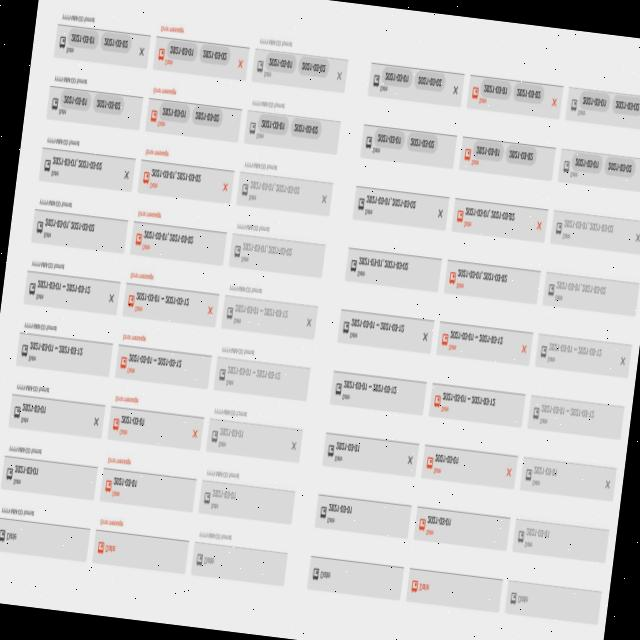VInlineDatepicker: (96, 454, 198, 514), (6, 378, 106, 439), (13, 318, 114, 378), (112, 330, 213, 390), (104, 392, 206, 451), (90, 514, 190, 574), (211, 342, 311, 402), (219, 280, 319, 340), (188, 528, 289, 587), (242, 94, 341, 154), (142, 84, 244, 142), (120, 269, 220, 328), (226, 218, 326, 277), (136, 144, 236, 203), (196, 466, 297, 524), (0, 442, 99, 501), (204, 405, 303, 464), (29, 196, 129, 254), (128, 208, 228, 266), (234, 157, 334, 215), (36, 134, 136, 192), (250, 34, 350, 92), (52, 11, 151, 69), (44, 73, 144, 130), (21, 259, 121, 315), (150, 24, 250, 80), (0, 503, 91, 562), (510, 515, 609, 564), (518, 453, 616, 502), (418, 442, 518, 490), (524, 391, 624, 439), (532, 330, 632, 378), (441, 256, 541, 304), (540, 268, 640, 316), (350, 182, 450, 230), (464, 72, 564, 120), (412, 502, 511, 550), (502, 577, 602, 624), (320, 430, 420, 477), (426, 380, 526, 427), (334, 307, 434, 354), (403, 565, 502, 612), (328, 368, 426, 415), (450, 195, 548, 242), (304, 553, 404, 599), (342, 246, 442, 292), (358, 122, 458, 168), (456, 134, 556, 180), (434, 319, 533, 365), (313, 492, 411, 538), (547, 206, 640, 254), (365, 61, 464, 106), (555, 145, 640, 193), (562, 83, 640, 131)
